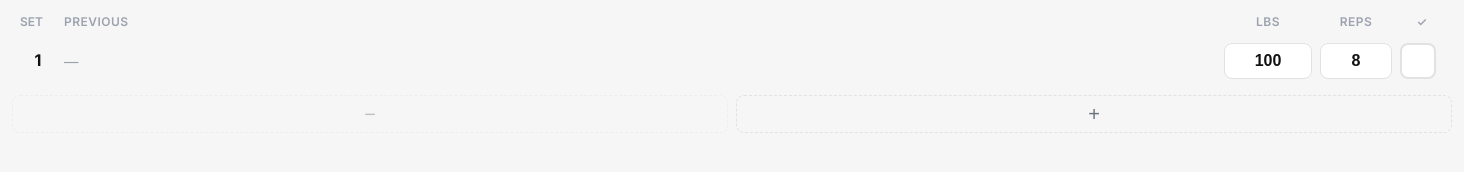
Scenario: SetTable › puts the saved value back for an invalid entry
The width and height of the screenshot is (1464, 172).
Clear the number field named "Set 1 reps": (1356, 61) x1=1320 y1=43 x2=1392 y2=79
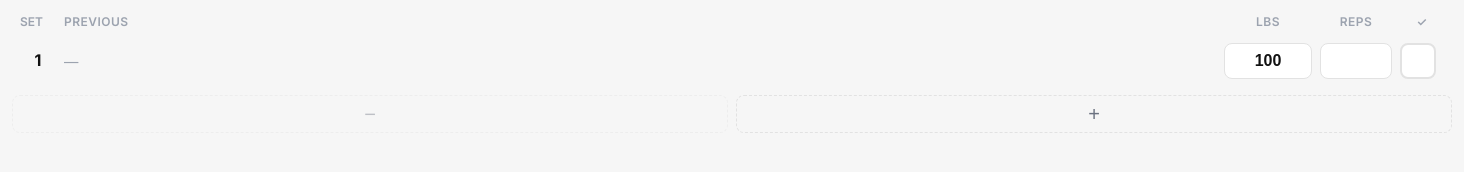
Leave the number field named "Set 1 reps", box x1=1320 y1=43 x2=1392 y2=79
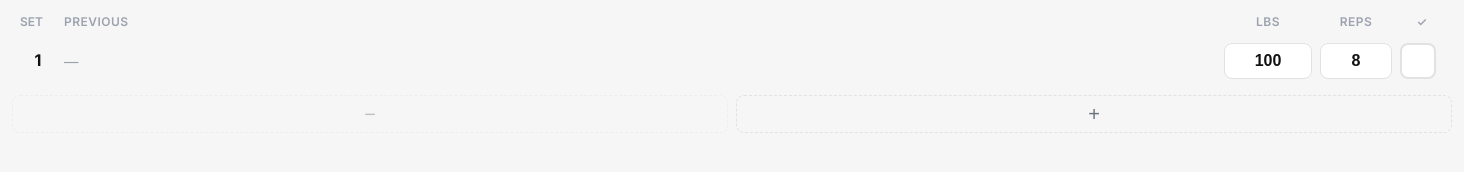
Check: the number field named "Set 1 reps" holds "8", box x1=1320 y1=43 x2=1392 y2=79
